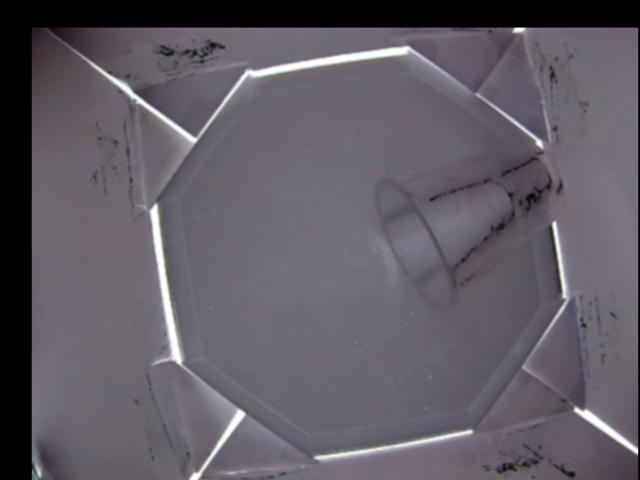Cup: (371, 139, 567, 312)
